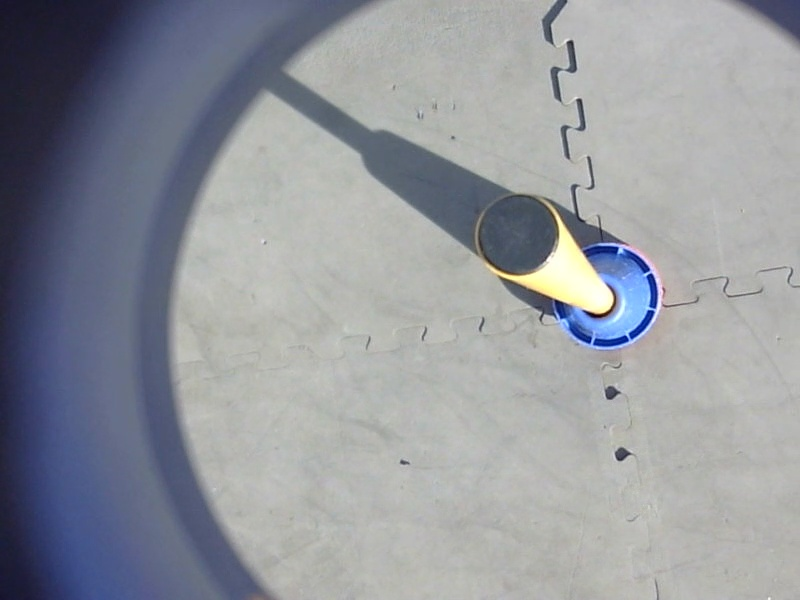tip: (467, 189, 566, 282)
